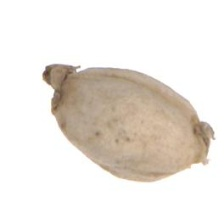L1: (41, 63, 78, 112), (191, 110, 215, 168)
L2: (41, 63, 214, 182)
